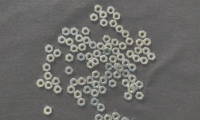nut: (44, 81, 53, 90), (45, 45, 54, 54), (53, 49, 62, 58), (74, 91, 83, 100), (97, 104, 106, 113), (103, 47, 112, 56), (122, 30, 131, 39), (117, 53, 126, 62), (122, 59, 131, 68), (126, 50, 135, 59), (135, 92, 145, 100), (44, 107, 52, 116), (36, 80, 45, 88), (44, 73, 53, 81), (47, 54, 55, 63), (52, 78, 61, 86), (54, 86, 63, 94), (78, 98, 86, 107), (70, 78, 78, 87), (65, 67, 74, 75), (66, 54, 74, 63), (58, 36, 66, 45), (62, 28, 70, 37), (66, 38, 74, 47), (75, 35, 84, 43), (78, 78, 86, 87), (84, 86, 92, 95), (91, 90, 100, 98), (91, 98, 99, 107), (77, 53, 85, 62), (79, 43, 87, 52), (83, 37, 92, 45), (82, 27, 90, 36), (86, 77, 95, 85), (92, 81, 101, 89), (87, 60, 95, 69), (93, 50, 102, 58), (89, 42, 98, 50), (99, 86, 107, 95), (105, 71, 113, 80), (105, 63, 114, 71), (100, 55, 108, 64), (119, 42, 127, 51), (126, 38, 135, 46), (116, 25, 124, 34), (113, 12, 121, 21), (107, 6, 115, 15), (95, 5, 103, 14), (90, 14, 99, 22), (112, 47, 121, 55), (116, 65, 125, 73), (114, 71, 122, 80), (122, 70, 131, 78), (128, 64, 137, 72), (122, 80, 131, 88), (128, 75, 137, 83), (124, 93, 133, 101), (128, 85, 136, 94), (131, 83, 140, 91), (136, 81, 144, 90), (133, 55, 142, 63), (135, 46, 143, 55), (140, 57, 149, 65), (148, 53, 157, 61), (143, 47, 151, 56), (144, 38, 152, 47), (43, 64, 51, 72), (70, 45, 78, 53), (71, 28, 79, 36), (92, 71, 100, 79), (86, 53, 94, 61), (92, 58, 100, 66), (100, 77, 108, 85), (109, 80, 117, 88), (97, 43, 105, 51), (105, 43, 113, 51), (103, 35, 111, 43), (111, 39, 119, 47), (110, 20, 118, 28), (100, 19, 108, 27), (100, 11, 108, 19), (136, 39, 144, 47), (139, 31, 147, 39), (68, 86, 75, 95), (112, 113, 121, 120), (109, 56, 118, 63), (114, 63, 121, 71), (104, 115, 113, 120), (95, 115, 103, 120), (121, 117, 130, 120)
